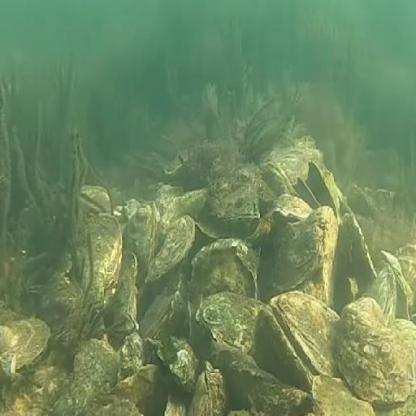Oyster- Indeterminate: (260, 161, 296, 196), (75, 184, 112, 216)
Oyster-Closed: (337, 295, 410, 404), (190, 248, 258, 364), (264, 204, 334, 290), (275, 293, 341, 377), (254, 310, 314, 391), (74, 214, 124, 309), (195, 290, 271, 351), (202, 156, 264, 228), (373, 319, 416, 416), (332, 211, 373, 310), (148, 216, 195, 282), (120, 204, 161, 278), (0, 316, 48, 376), (378, 250, 411, 320), (313, 379, 375, 416), (115, 252, 139, 345), (159, 186, 205, 231), (190, 364, 227, 416), (367, 263, 396, 323), (393, 243, 416, 294)
Oyster-Open: (297, 159, 341, 222)
